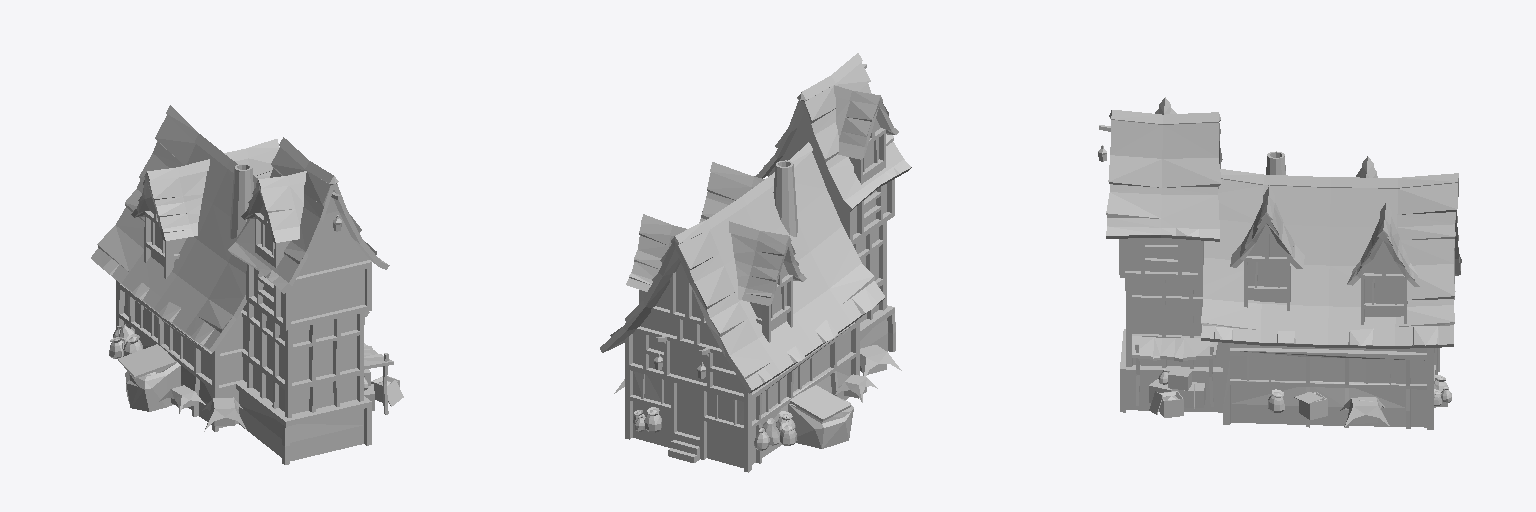
The model's file is house 5.1.obj.
3 renders of one model, left to right at view 1: azimuth 30°, elevation 25°; view 2: azimuth 150°, elevation 25°; view 3: azimuth 270°, elevation 25°, orthographic.
Visible parts, largest first — view 1: DrawCall_3, DrawCall_6, DrawCall_5, DrawCall_7; view 2: DrawCall_6, DrawCall_3, DrawCall_5, DrawCall_7, DrawCall_4; view 3: DrawCall_6, DrawCall_3, DrawCall_5, DrawCall_7.
Part boxes in pixels (bbox=[...]): DrawCall_3: bbox=[92, 175, 403, 464]; DrawCall_6: bbox=[91, 105, 386, 348]; DrawCall_5: bbox=[181, 164, 363, 460]; DrawCall_7: bbox=[143, 223, 341, 376]; DrawCall_6: bbox=[610, 53, 910, 389]; DrawCall_3: bbox=[600, 64, 911, 472]; DrawCall_5: bbox=[633, 160, 887, 467]; DrawCall_7: bbox=[644, 141, 873, 422]; DrawCall_4: bbox=[677, 384, 699, 436]; DrawCall_6: bbox=[1106, 97, 1461, 345]; DrawCall_3: bbox=[1098, 125, 1460, 429]; DrawCall_5: bbox=[1126, 151, 1447, 427]; DrawCall_7: bbox=[1098, 154, 1454, 382].
Bounding box in the file's own units: 16.02 × 21.25 × 24.46.